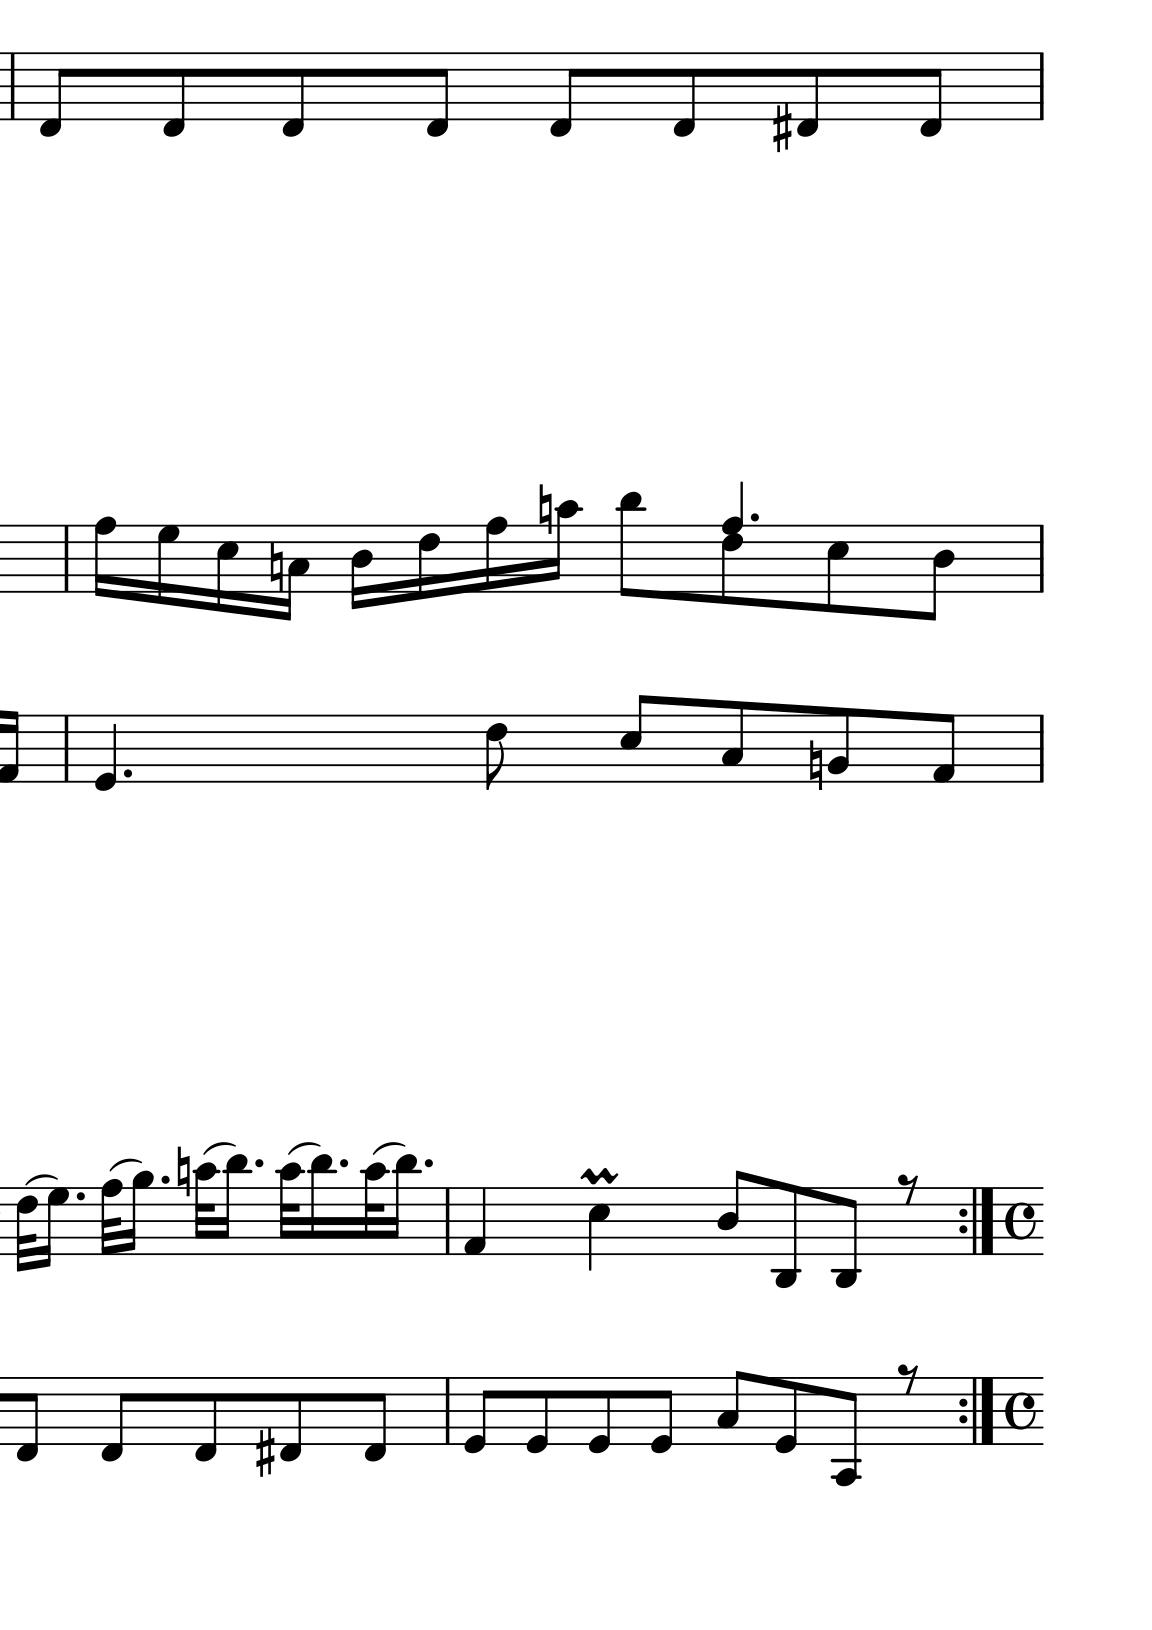16_1: (1, 709, 19, 785)
16_10: (546, 498, 581, 594)
16_11: (218, 1151, 251, 1259), (386, 1151, 418, 1257), (305, 1151, 334, 1257)
16_3: (281, 523, 309, 624)
16_4: (348, 523, 372, 611)
16_5: (213, 522, 239, 616)
16_6: (416, 522, 441, 602)
16_7: (37, 1184, 69, 1272), (153, 522, 180, 609)
16_8: (90, 516, 115, 599), (482, 513, 507, 596)
16_9: (123, 1169, 153, 1255)
32_10: (273, 1159, 303, 1257), (359, 1160, 388, 1257), (191, 1161, 218, 1257)
32_6: (12, 1185, 37, 1274)
32_8: (98, 1178, 123, 1256)
4_0: (91, 713, 118, 793)
4_1: (461, 1186, 487, 1257)
4_5: (586, 1186, 610, 1274)
8_-1: (97, 1375, 132, 1464), (36, 51, 70, 140), (547, 50, 580, 140), (160, 50, 187, 140), (670, 50, 697, 140), (192, 1375, 219, 1464), (362, 1375, 389, 1464), (424, 50, 451, 138), (795, 50, 822, 140), (279, 51, 305, 140), (916, 50, 943, 138), (14, 1375, 40, 1463), (278, 1376, 304, 1463)
8_-3: (770, 1181, 800, 1289), (832, 1186, 860, 1291)
8_-4: (832, 1375, 860, 1488)
8_0: (461, 1376, 494, 1456), (772, 1375, 799, 1456), (522, 1376, 550, 1456), (586, 1376, 612, 1456), (648, 1376, 674, 1456)
8_1: (928, 712, 958, 786)
8_11: (616, 491, 645, 599)
8_2: (827, 707, 852, 786)
8_3: (714, 1370, 747, 1447), (719, 699, 746, 785)
8_4: (920, 523, 954, 624), (714, 1169, 747, 1257)
8_5: (617, 692, 651, 785), (823, 522, 850, 616)
8_6: (482, 713, 507, 791)
Mordent: (578, 1165, 620, 1186)
Natural: (805, 738, 825, 793), (536, 482, 554, 536), (267, 541, 283, 593), (175, 1143, 190, 1194)
Rests8: (895, 1171, 921, 1205), (895, 1360, 920, 1394)
RightRepeatSign: (956, 1188, 996, 1255), (956, 1376, 994, 1447)
Sharp: (769, 101, 793, 155), (252, 1426, 276, 1479)
Single_barline: (438, 1188, 458, 1255), (438, 1377, 455, 1446), (1032, 525, 1049, 592), (1032, 715, 1049, 783), (57, 717, 74, 781), (4, 54, 19, 120), (1034, 54, 1049, 120), (59, 525, 74, 591)
Slur: (106, 1156, 145, 1171), (199, 1141, 237, 1156), (286, 1141, 322, 1156), (372, 1141, 406, 1156), (22, 1174, 59, 1188)
TimeSig: (1004, 1186, 1039, 1256), (1005, 1372, 1040, 1442), (1006, 1188, 1039, 1256), (1006, 1376, 1036, 1446)
dot: (138, 1166, 170, 1181), (420, 1156, 435, 1171), (251, 1156, 266, 1171), (747, 511, 761, 525), (120, 766, 133, 780), (337, 1156, 350, 1170), (157, 1173, 171, 1186), (72, 1189, 86, 1203)
